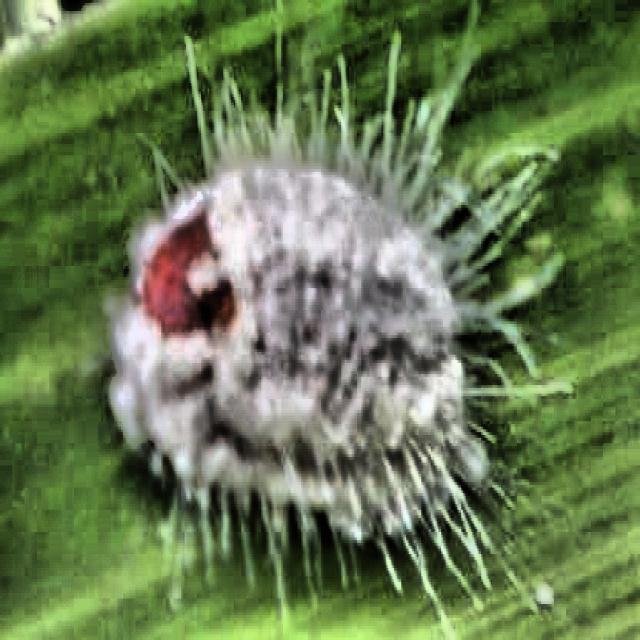Mealy-bug: (80, 83, 582, 640)
